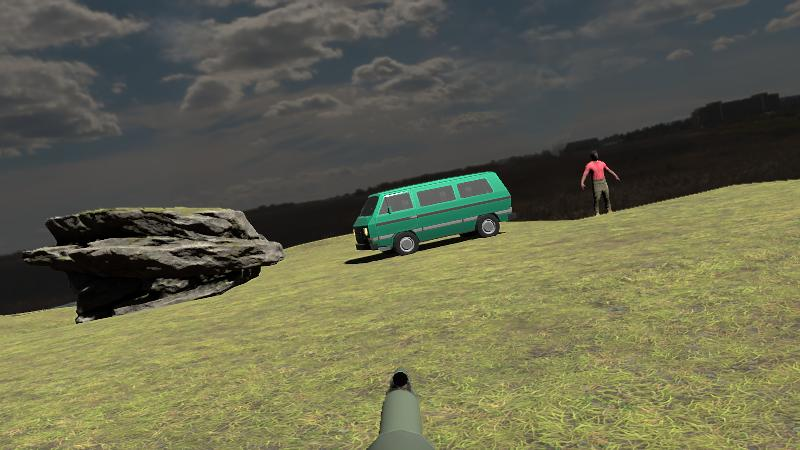Human: (582, 149, 621, 219)
car: (353, 171, 514, 258)
